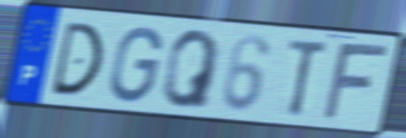6: (219, 32, 272, 116)
D: (48, 19, 106, 98)
F: (319, 42, 393, 124)
G: (107, 24, 165, 105)
Q: (160, 27, 223, 111)
T: (286, 37, 332, 120)
